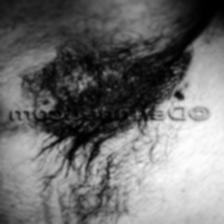Toxin: (45, 56, 208, 104), (7, 124, 165, 148)
